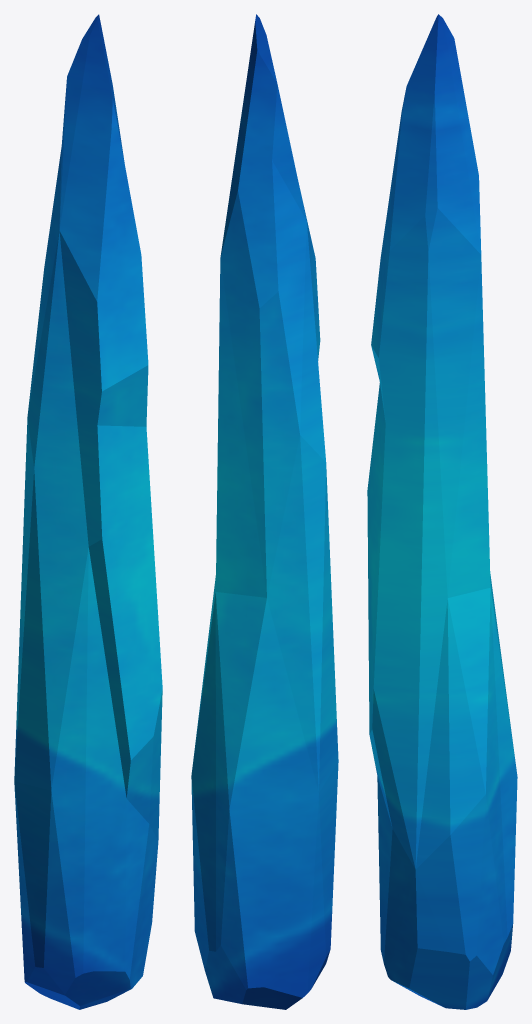
Rendered from Crystal6.obj.
The picture shows the model from 3 angles, left to right: view 1: azimuth 30°, elevation 25°; view 2: azimuth 150°, elevation 25°; view 3: azimuth 270°, elevation 25°; orthographic projection.
Visible parts, largest first — view 1: obj1; view 2: obj1; view 3: obj1.
Boxes of the visible parts, left/top/right/bottom form: obj1: left=14, top=14, right=162, bottom=1009; obj1: left=191, top=14, right=338, bottom=1009; obj1: left=367, top=14, right=517, bottom=1009.
Bounding box in the file's own units: 1.88 × 13.9 × 1.92.
1 material, 1 textured.
